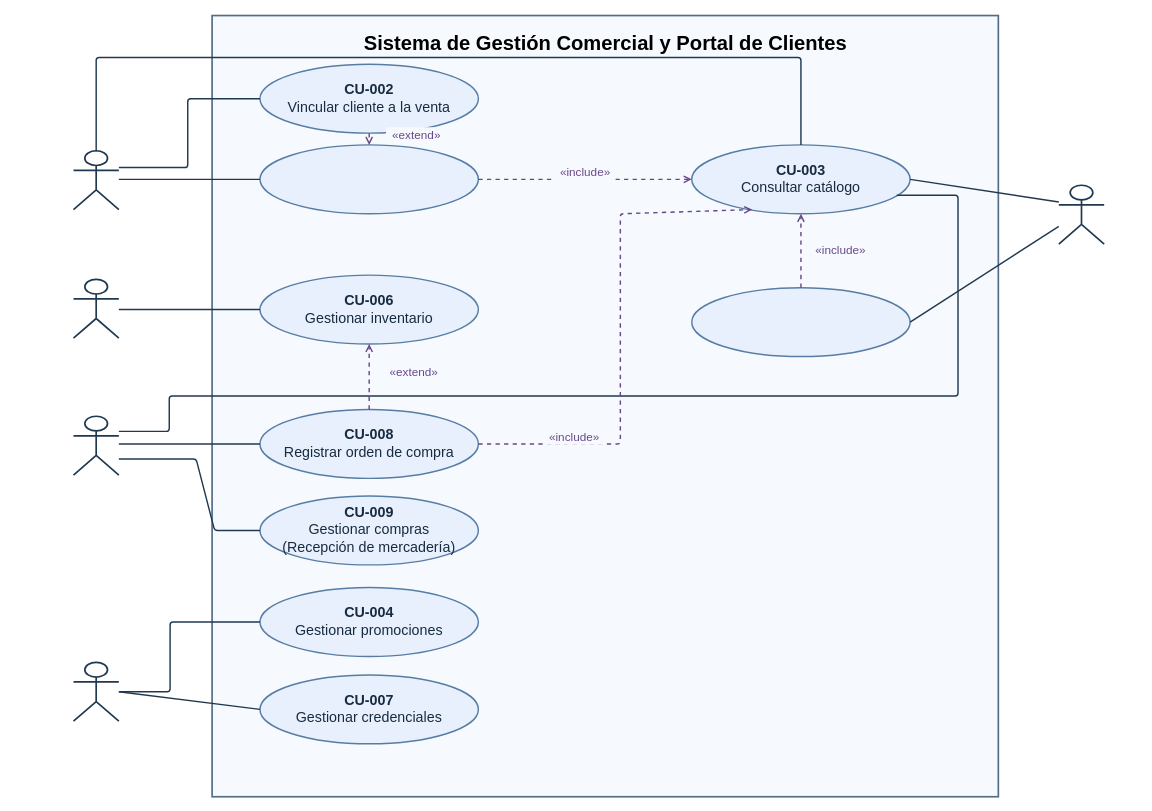
Some shapes in this 1152 by 811 pixel diagram are drawn without their labels. Each missing label, with the centre of its shape:
"Administrador Humberto Dávalos" goes at point (95, 691).
"Cliente registrado" goes at point (1081, 214).
"CU-001 Registrar venta" goes at point (369, 179).
"CU-005 Reservar producto (Separación en tienda)" goes at point (800, 322).
"Responsable de almacén Humberto Dávalos" goes at point (95, 308).
"Responsable de compras Humberto Dávalos" goes at point (95, 445).
"Vendedor Humberto Dávalos" goes at point (95, 180).
